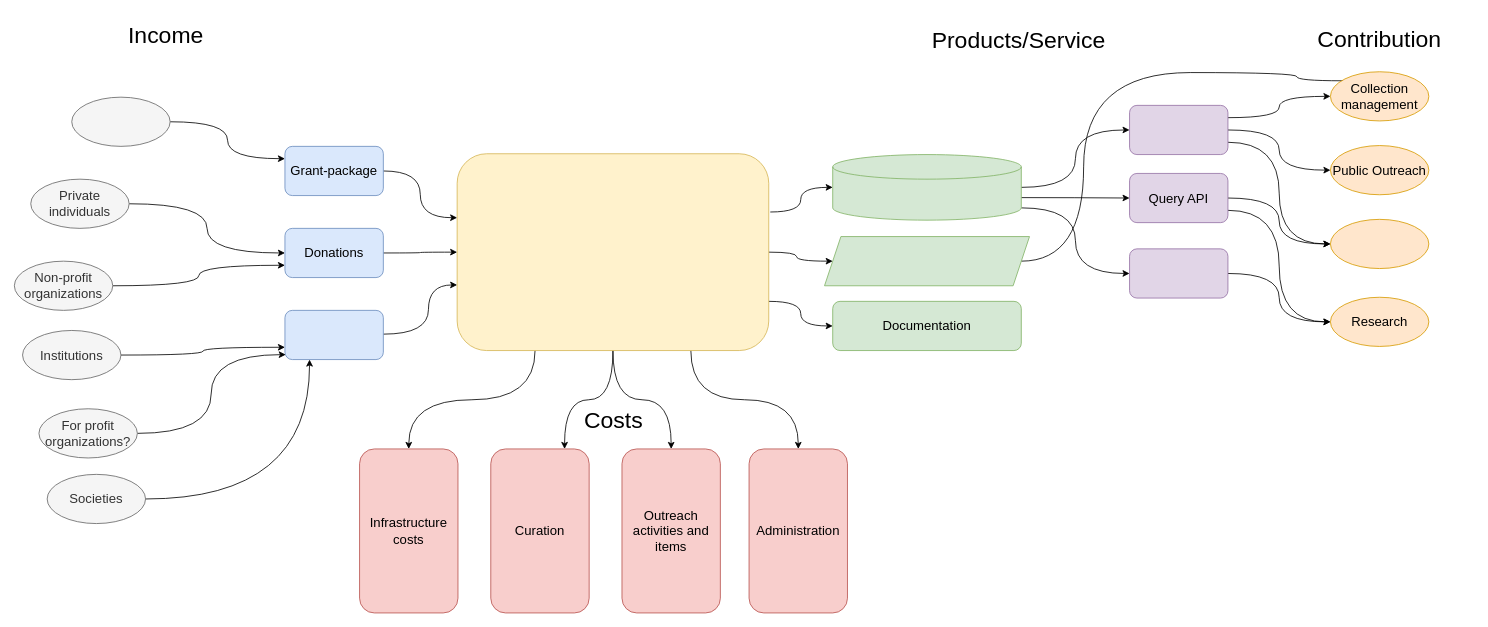
The diagram is 1488 pixels wide and 627 high, and some of its shapes have lost their labels. The centre of each missing label's shape, as x and y in pixels:
"Archival" belongs at pixel 1178 273.
"Data service" belongs at pixel 926 187.
"Education" belongs at pixel 1379 244.
"International organization for the curation and management of fossil data" belongs at pixel 612 252.
"Membership" belongs at pixel 333 335.
"Scientific Funding Agencies" belongs at pixel 120 121.
"Software?" belongs at pixel 927 261.
"Web Interfaces" belongs at pixel 1178 130.
